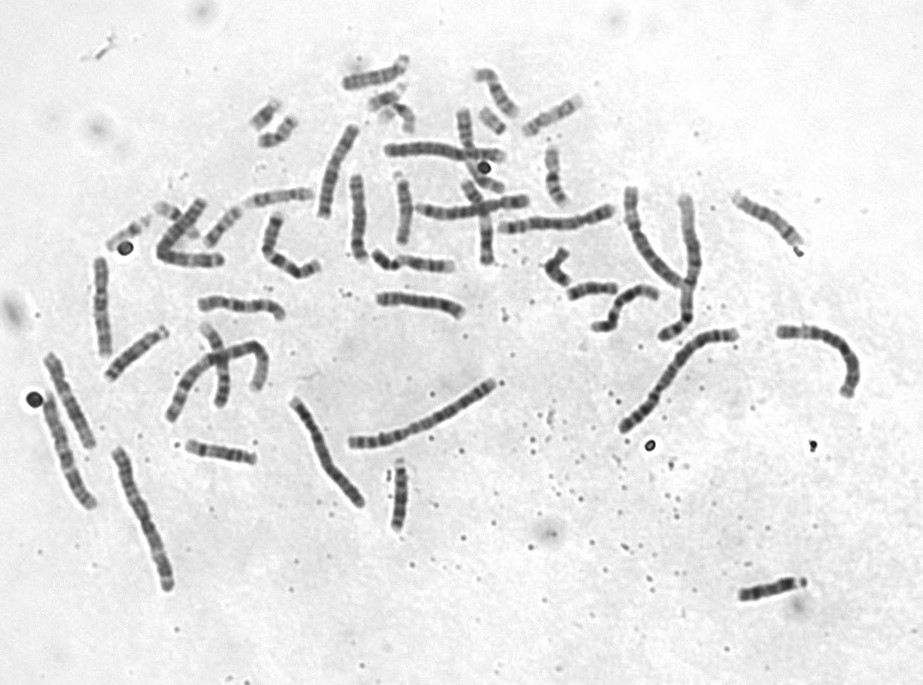chromosomes: (617, 321, 741, 435), (347, 377, 502, 458), (107, 435, 177, 595), (288, 387, 375, 515), (161, 338, 273, 428), (33, 387, 101, 517), (617, 175, 690, 294), (380, 137, 518, 198), (767, 321, 869, 402), (659, 190, 709, 348), (37, 343, 97, 455), (722, 187, 810, 262), (307, 122, 365, 231), (153, 197, 229, 276), (259, 205, 328, 289), (494, 204, 630, 241), (102, 321, 174, 387), (588, 280, 661, 343), (369, 244, 473, 286), (373, 291, 476, 333), (405, 189, 537, 220), (192, 316, 233, 414), (516, 90, 594, 141), (459, 171, 499, 268), (340, 50, 418, 98), (454, 105, 511, 168), (340, 168, 375, 268), (194, 292, 295, 326), (89, 254, 118, 365), (469, 65, 525, 120), (185, 434, 266, 470), (541, 143, 579, 217), (736, 574, 813, 607), (200, 203, 249, 254), (151, 196, 204, 243), (391, 165, 419, 250), (357, 79, 409, 123), (100, 214, 155, 255), (245, 183, 323, 210), (253, 112, 307, 151), (554, 276, 619, 308), (239, 92, 283, 139), (376, 105, 434, 140), (389, 448, 409, 543), (550, 243, 578, 291), (472, 107, 509, 137)
